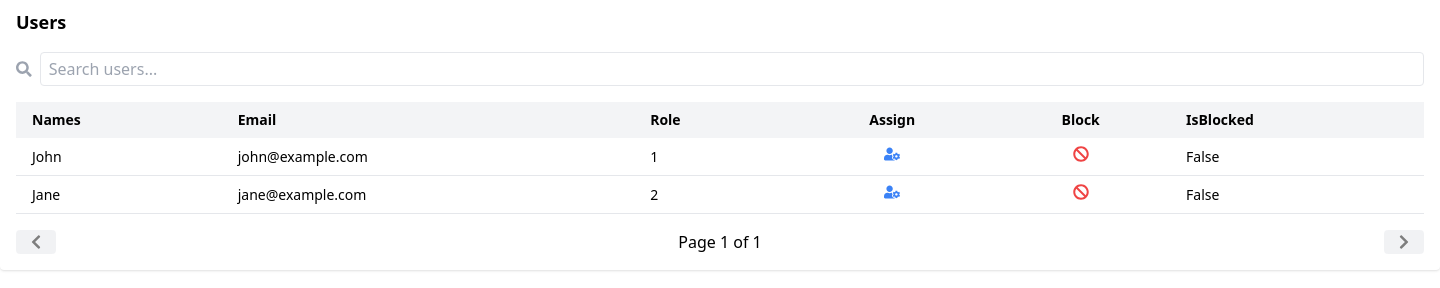
Test case: Users Component › should filter users based on search term
Check: the text "John" is shown, box [16,138,222,176]
Type "john" into the field with placeholder "Search users...".
click(732, 69); type("john")  # box [40,52,1424,86]
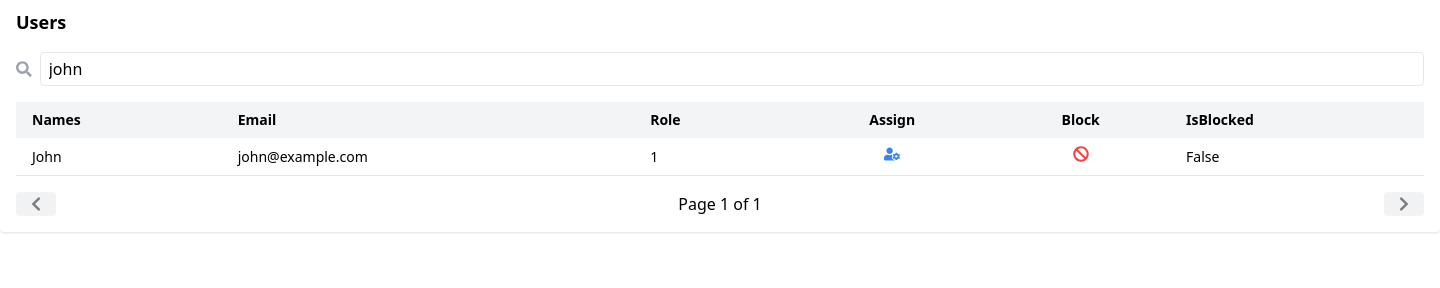
Check: the text "John" is shown, box [16,138,222,176]
Replace the text in the field with placeholder "Search users..." with "doesnotexist" at point(732, 69), box [40,52,1424,86]
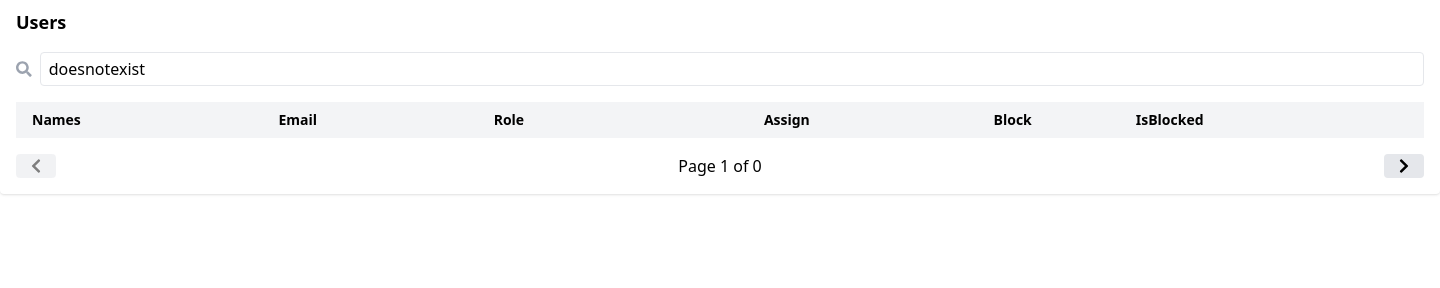
Check: the text "John" is gone
